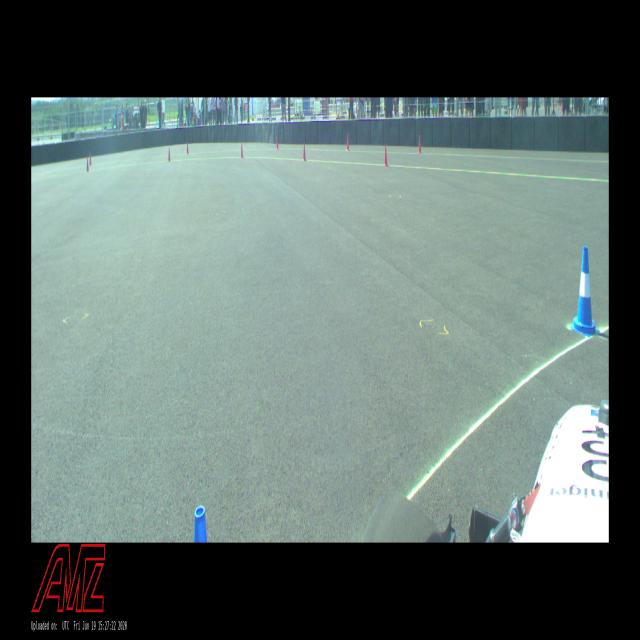blue_cone: (570, 246, 600, 338), (192, 506, 208, 542)
